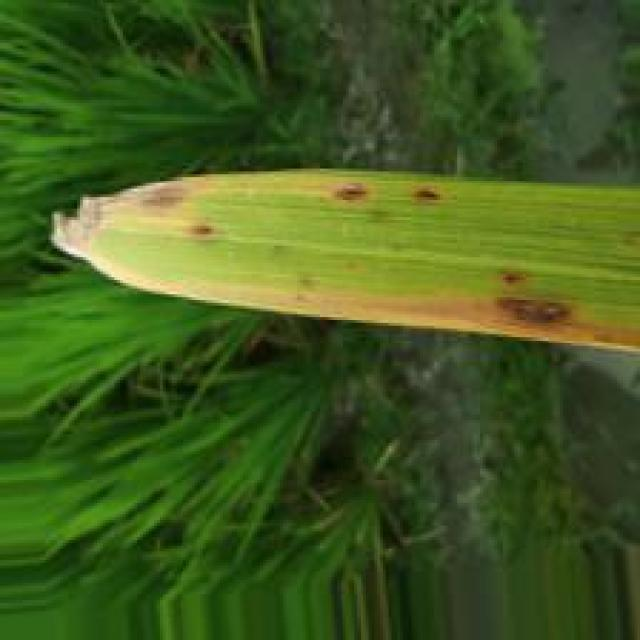Narrow_Brown_Leaf_Spot: (48, 175, 640, 354), (405, 186, 446, 206), (330, 183, 368, 204), (499, 268, 530, 288), (188, 224, 215, 239)
